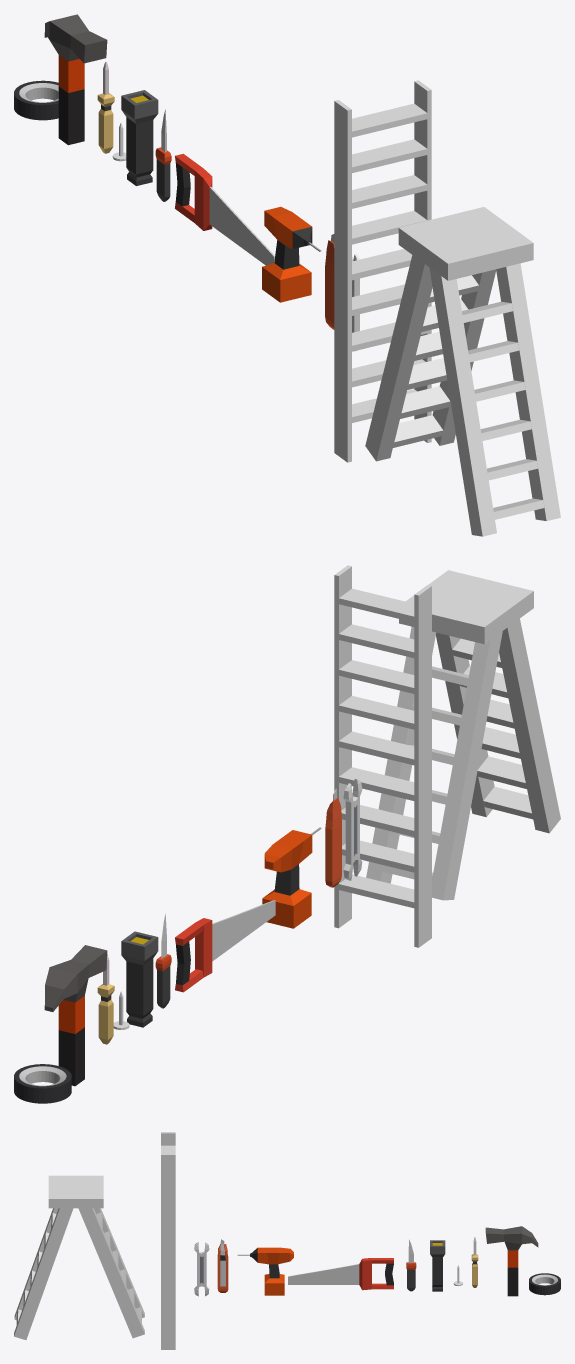
File: FullProject.fbx
The picture shows the model from 3 angles, top to bottom: view 1: azimuth 30°, elevation 25°; view 2: azimuth 150°, elevation 25°; view 3: azimuth 270°, elevation 25°; orthographic projection. The views are drawn at different scales.
Visible parts, largest first — view 1: Cube.009, Cube.008, Cube.002, Cube.003, Cube.001, Cube.005, Cylinder, Cube.006, Cube.004, Cube; view 2: Cube.009, Cube.008, Cube.002, Cube.003, Cube.001, Cube.005, Cylinder, Cube.007, Cube, Cube.006, Cube.004; view 3: Cube.009, Cube.008, Cube.003, Cube.002, Cube.001, Cube.005, Cylinder, Cube, Cube.007, Cube.004.
Part boxes in pixels (box(x1,y1,x2,y2)): Cube.009: box(365, 207, 560, 536); Cube.008: box(334, 80, 431, 462); Cube.002: box(44, 14, 107, 145); Cube.003: box(175, 153, 274, 265); Cube.001: box(262, 206, 321, 302); Cube.005: box(121, 90, 158, 185); Cylinder: box(14, 80, 58, 120); Cube.006: box(97, 61, 114, 153); Cube.004: box(155, 109, 171, 201); Cube: box(325, 234, 334, 329); Cube.009: box(366, 570, 560, 900); Cube.008: box(334, 565, 431, 947); Cube.002: box(44, 945, 107, 1086); Cube.003: box(175, 900, 275, 992); Cube.001: box(262, 827, 321, 928); Cube.005: box(121, 931, 158, 1027); Cylinder: box(14, 1064, 71, 1103); Cube.007: box(343, 779, 362, 880); Cube: box(325, 788, 341, 887); Cube.006: box(97, 954, 114, 1044); Cube.004: box(155, 913, 171, 1008); Cube.009: box(14, 1175, 144, 1339); Cube.008: box(161, 1132, 175, 1349); Cube.003: box(288, 1258, 393, 1290); Cube.002: box(485, 1226, 538, 1296); Cube.001: box(237, 1247, 293, 1295); Cube.005: box(430, 1240, 445, 1291); Cylinder: box(529, 1273, 560, 1295); Cube: box(217, 1239, 228, 1292); Cube.007: box(194, 1242, 209, 1296); Cube.004: box(406, 1239, 416, 1291).
Size of the model in its own units: 708 by 2781 by 7071.
